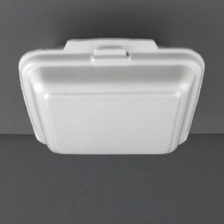foam_box: (13, 31, 210, 164)
